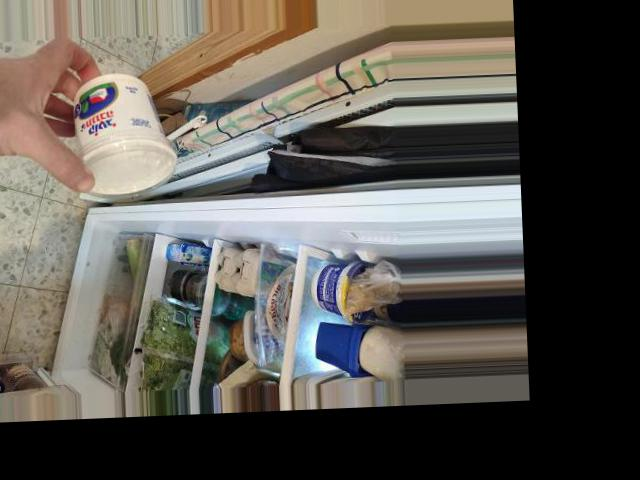cotage: (61, 66, 175, 194)
